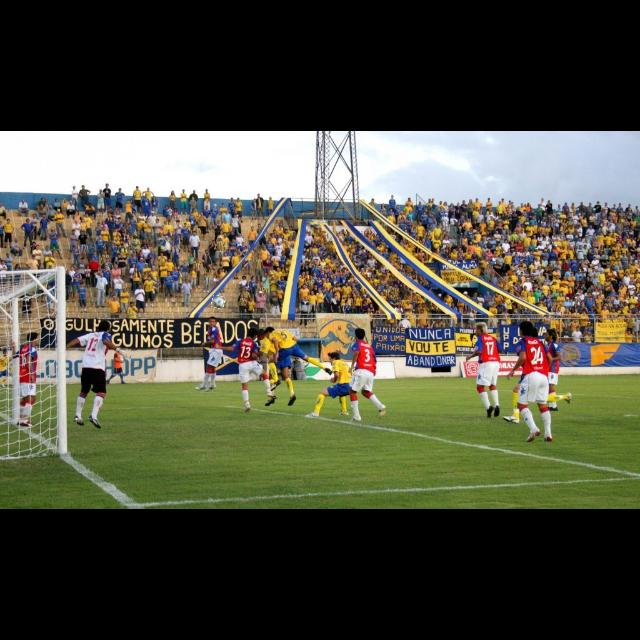Football: (212, 296, 224, 308)
